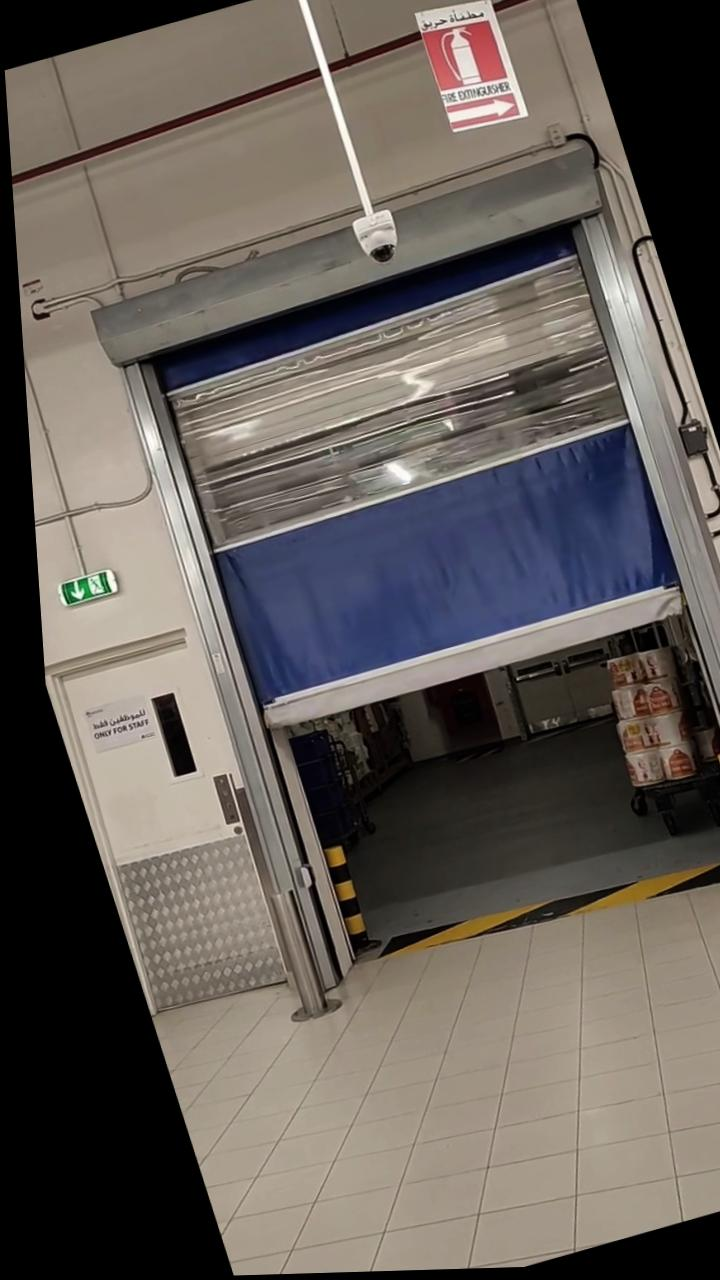Strip: (369, 845, 720, 980)
